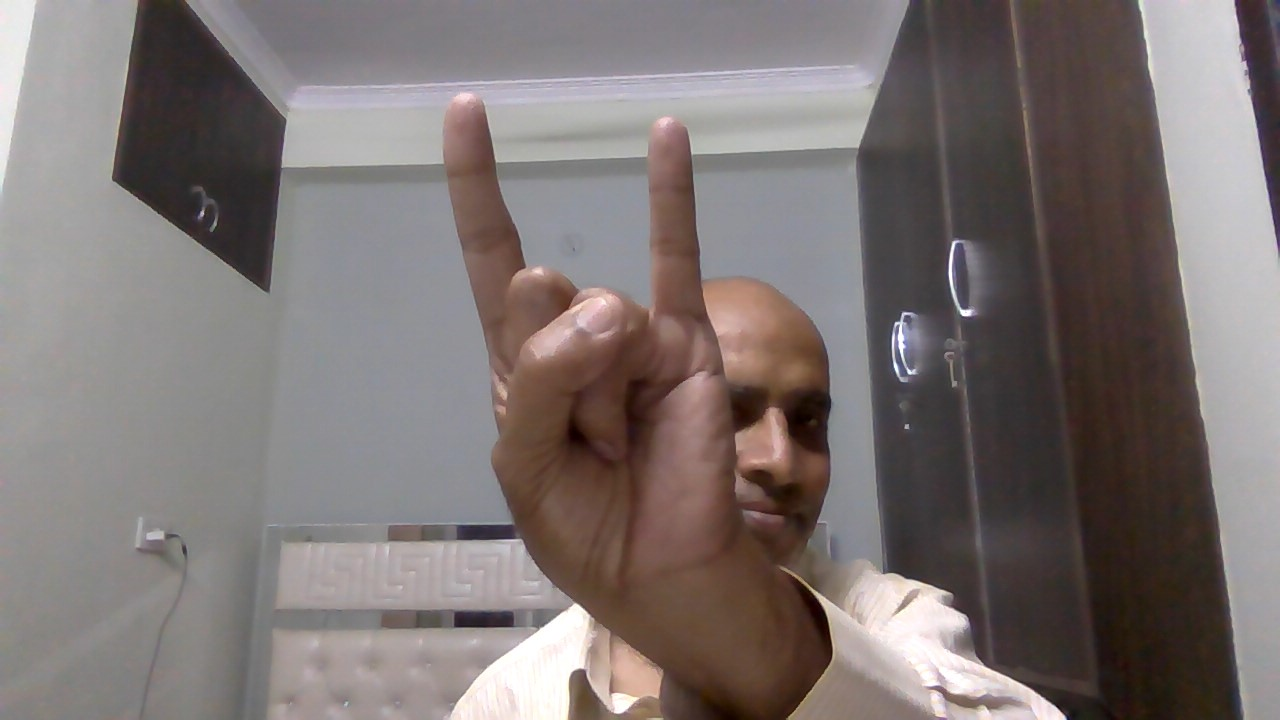Select All: (427, 86, 760, 611)
